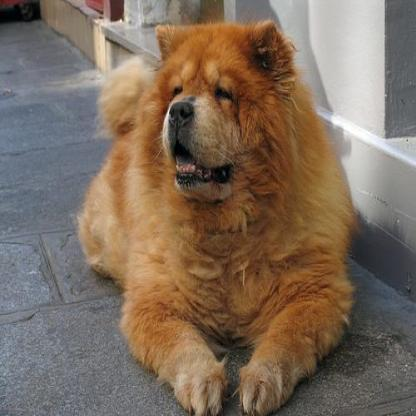chow: (75, 18, 357, 413)
